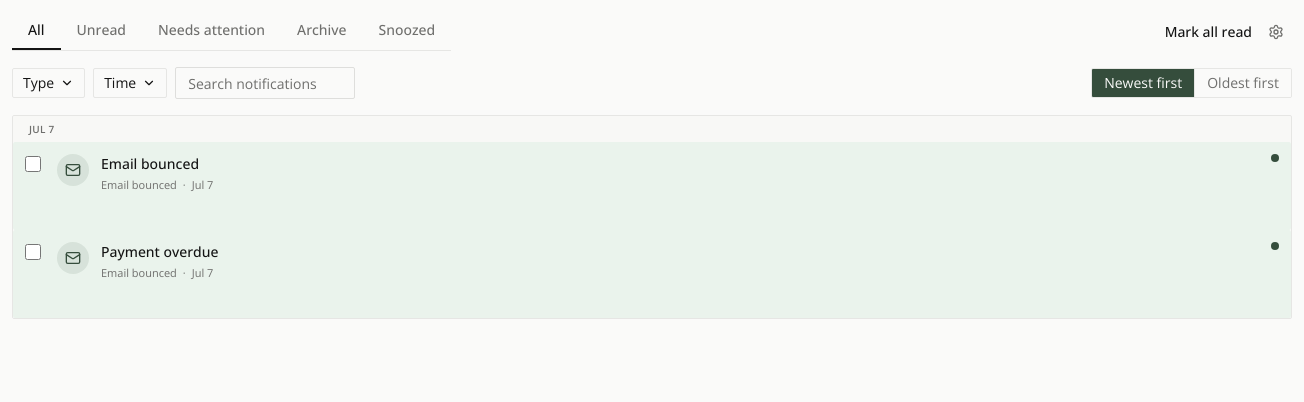
Test case: NotificationsPageClient — multi-select and bulk bar (E3) › selecting a row shows the bulk bar with '1 selected'
Click the 1st checkbox with test id "notification-select-checkbox". click: point(33, 164)
box: [25,156,41,172]
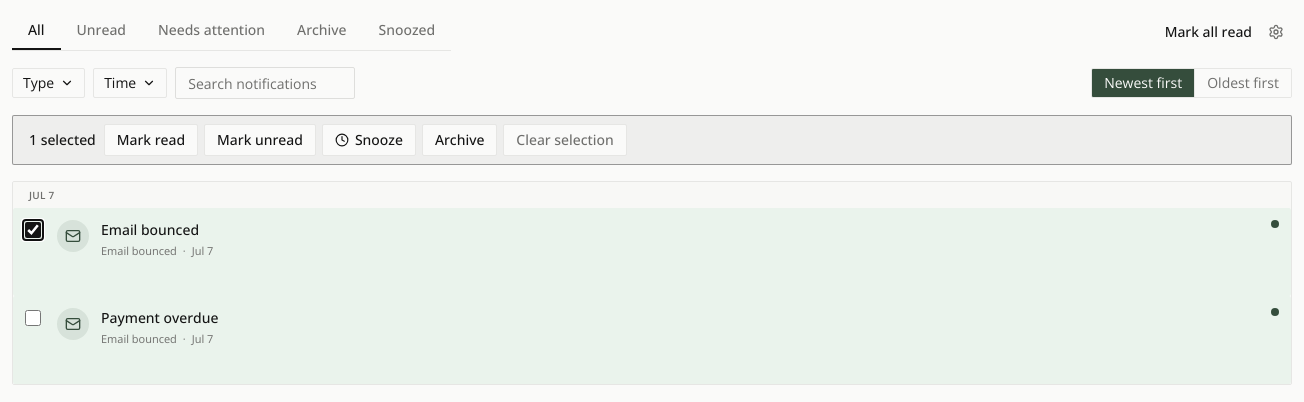
Expected: the element with test id "bulk-action-bar" is shown, [12,115,1292,165]
Expected: the text with test id "bulk-selected-count" reads "1 selected", [29,130,96,150]
